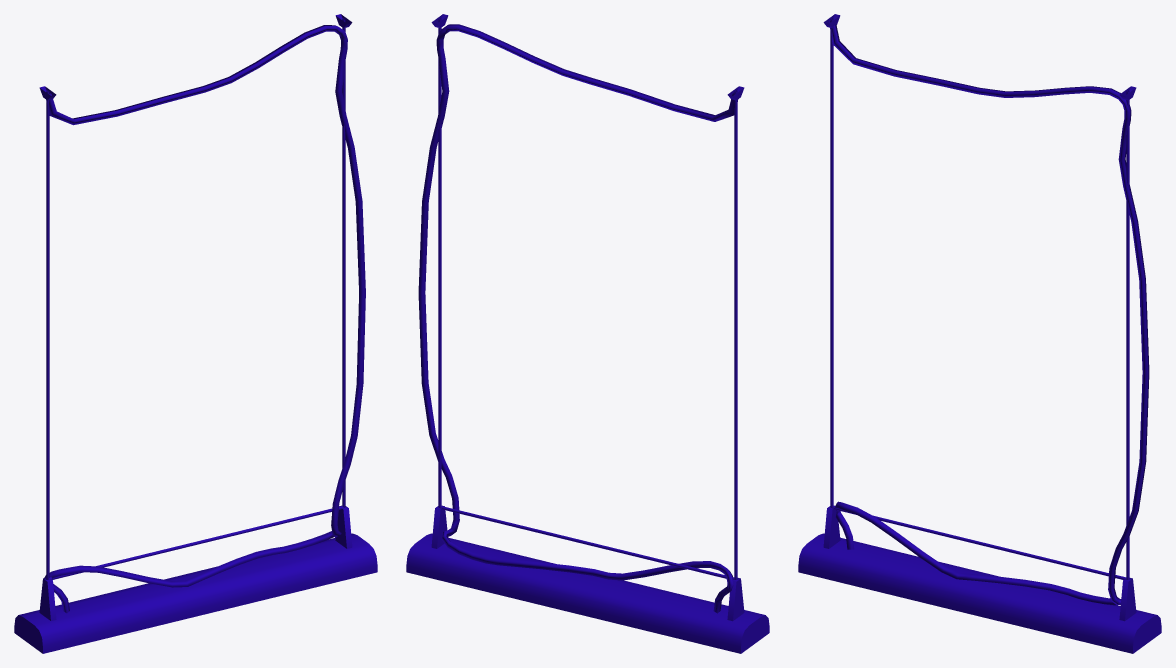
File: LampCeiling_03.FBX
3 views of the same model, side by side, from view 1: azimuth 30°, elevation 25°; view 2: azimuth 150°, elevation 25°; view 3: azimuth 330°, elevation 25° (orthographic).
Parts seen in each view (by area): view 1: SM_LampCeilingA_02_LOD0; view 2: SM_LampCeilingA_02_LOD0; view 3: SM_LampCeilingA_02_LOD0.
Part boxes in pixels (x1,y1,x2,y2): SM_LampCeilingA_02_LOD0: (14,14,377,653); SM_LampCeilingA_02_LOD0: (406,14,769,653); SM_LampCeilingA_02_LOD0: (798,14,1161,653).
Bounding box in the file's own units: 201 × 317 × 29.56.
